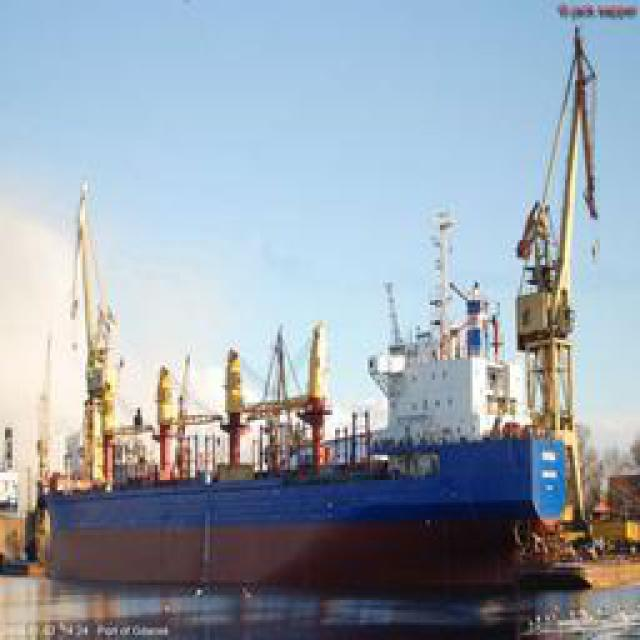Ship: (29, 174, 594, 599)
